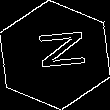N_W: (26, 33, 84, 77)
